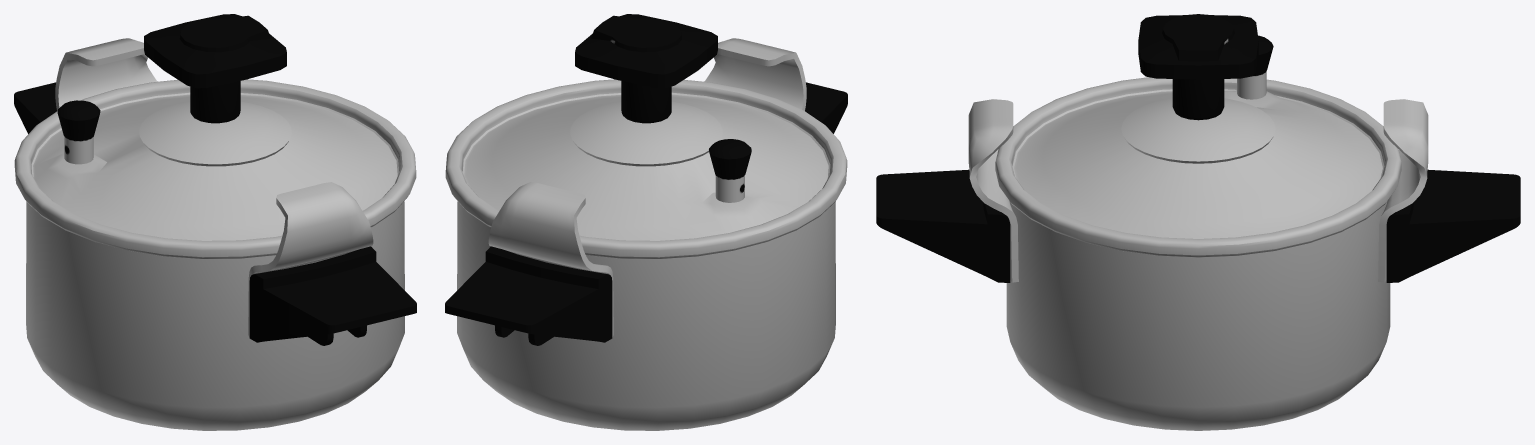
The model's file is COOKER 1.fbx.
3 renders of one model, left to right at view 1: azimuth 30°, elevation 25°; view 2: azimuth 150°, elevation 25°; view 3: azimuth 270°, elevation 25°, orthographic.
Visible parts, largest first — view 1: COOKER; view 2: COOKER; view 3: COOKER.
Boxes of the visible parts, x1,y1,x2,y2 form: COOKER: [14, 14, 416, 430]; COOKER: [445, 14, 847, 430]; COOKER: [876, 14, 1520, 430].
Bounding box in the file's own units: 48.22 × 43.95 × 76.43.
Materials: 1 (1 with a texture image).
